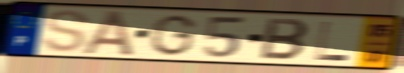5: (201, 16, 249, 60)
A: (79, 10, 137, 58)
B: (258, 16, 312, 62)
G: (147, 13, 199, 58)
L: (313, 20, 352, 63)
S: (41, 9, 93, 55)
